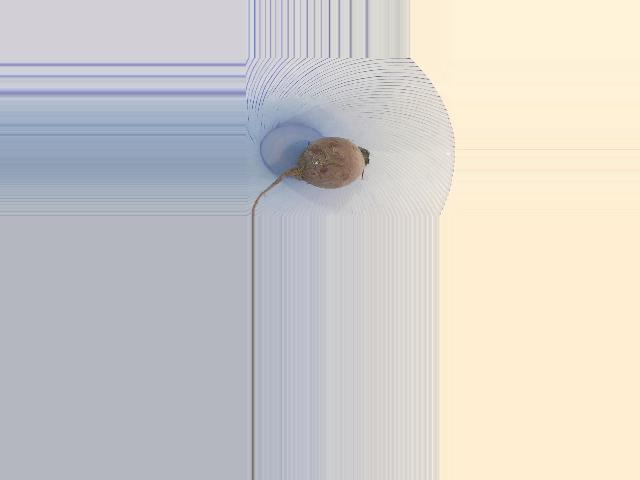beet: (252, 137, 370, 217)
